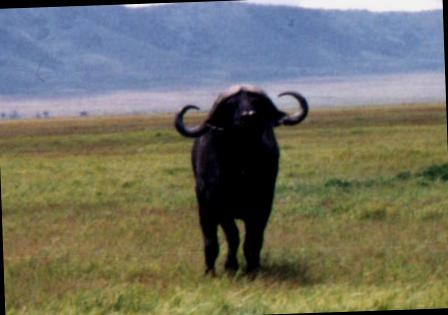Buffalo: (87, 22, 377, 315)
